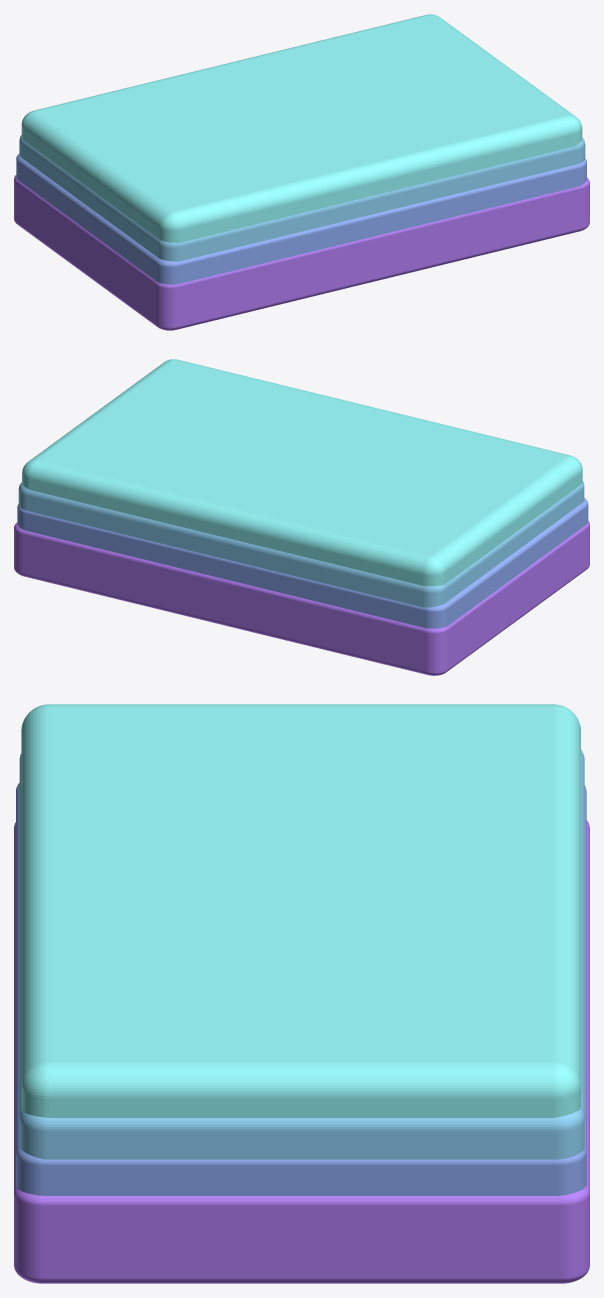
Rendered from boloretangulo cobertura neon azul.glb.
3 views of the same model, one above another, from view 1: azimuth 30°, elevation 25°; view 2: azimuth 150°, elevation 25°; view 3: azimuth 270°, elevation 25° (orthographic). The views are drawn at different scales.
Parts seen in each view (by area): view 1: Cube.000, Cube.001, Cube.004, Cube.005; view 2: Cube.000, Cube.001, Cube.004, Cube.005; view 3: Cube.000, Cube.001, Cube.005, Cube.004.
Boxes of the visible parts, <box> form: Cube.000: <box>21,14,582,242</box>; Cube.001: <box>14,175,589,330</box>; Cube.004: <box>16,154,586,284</box>; Cube.005: <box>19,135,585,261</box>; Cube.000: <box>22,359,582,586</box>; Cube.001: <box>14,521,589,675</box>; Cube.004: <box>17,498,588,628</box>; Cube.005: <box>18,481,584,607</box>; Cube.000: <box>21,704,580,1117</box>; Cube.001: <box>14,820,589,1283</box>; Cube.005: <box>19,749,584,1159</box>; Cube.004: <box>16,783,586,1195</box>.
Size of the model in its own units: 3.43 by 0.867 by 2.14.
